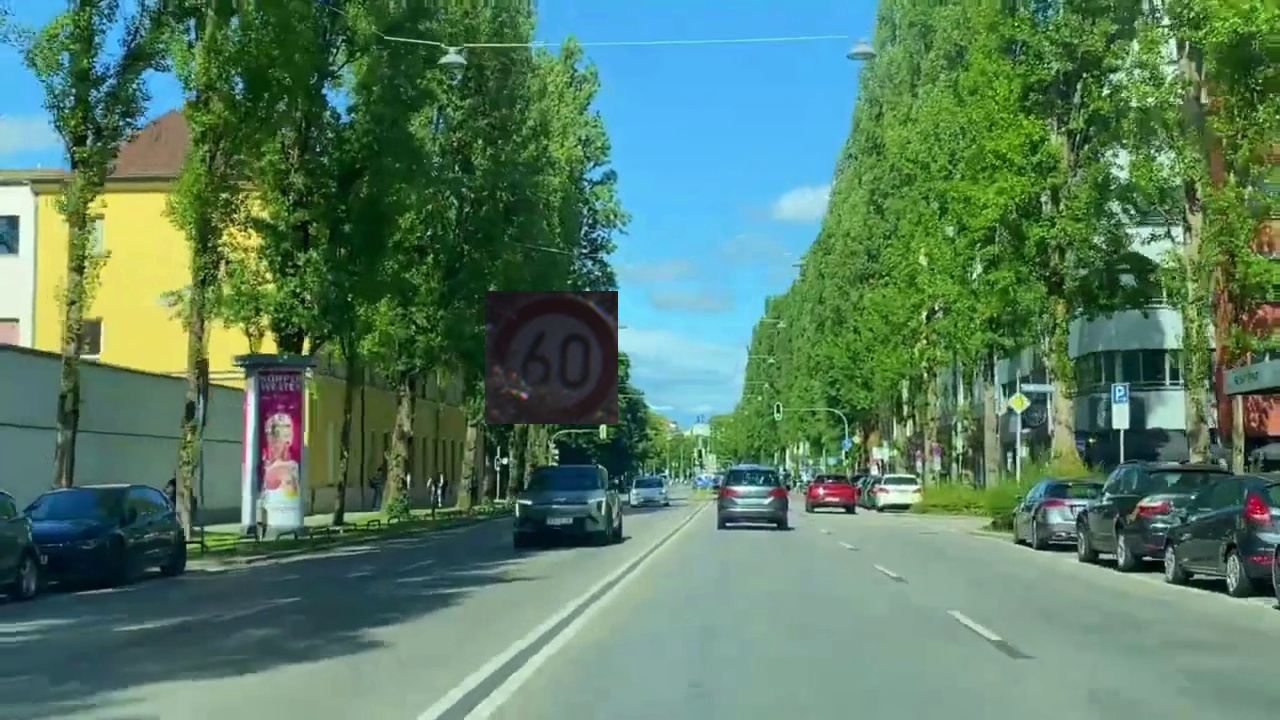Speed 60: (485, 291, 618, 424)
